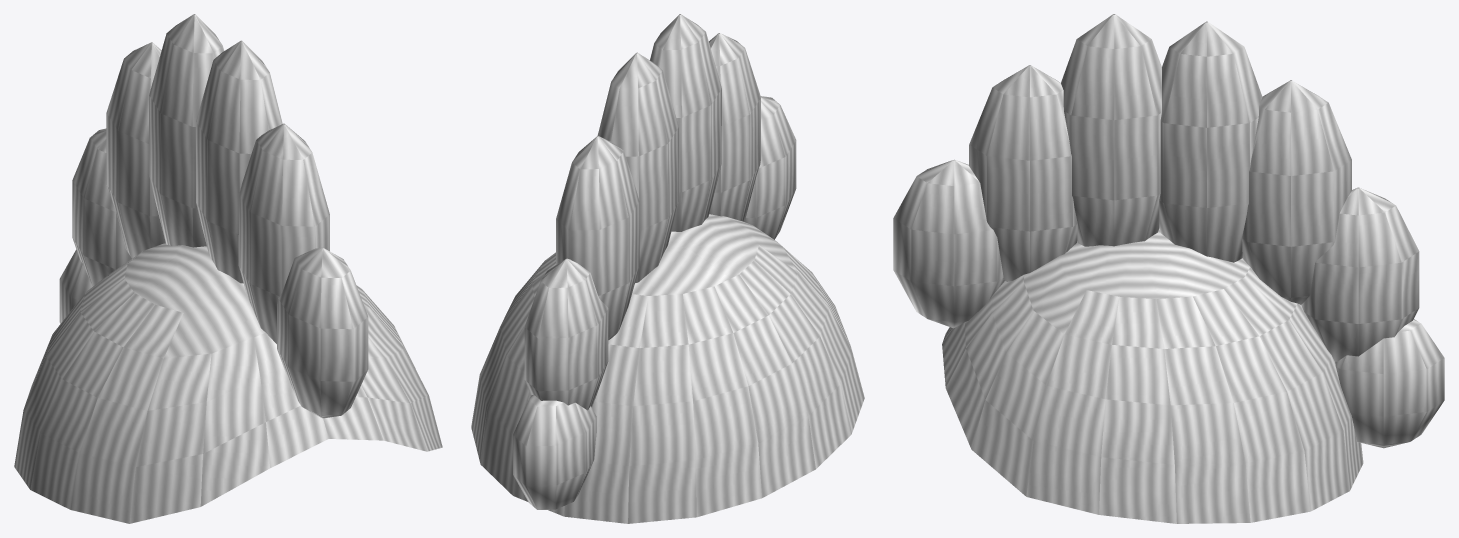
File: hair_mohawk.glb
The picture shows the model from 3 angles, left to right: view 1: azimuth 30°, elevation 25°; view 2: azimuth 150°, elevation 25°; view 3: azimuth 270°, elevation 25°; orthographic projection. The views are drawn at different scales.
Parts seen in each view (by area): view 1: hair_mohawk; view 2: hair_mohawk; view 3: hair_mohawk.
Part boxes in pixels (<box>): hair_mohawk: <box>14,14,442,523</box>; hair_mohawk: <box>471,14,864,523</box>; hair_mohawk: <box>893,14,1444,523</box>.
Bounding box in the file's own units: 0.2433 × 0.2941 × 0.3273.
1 material, 1 textured.
